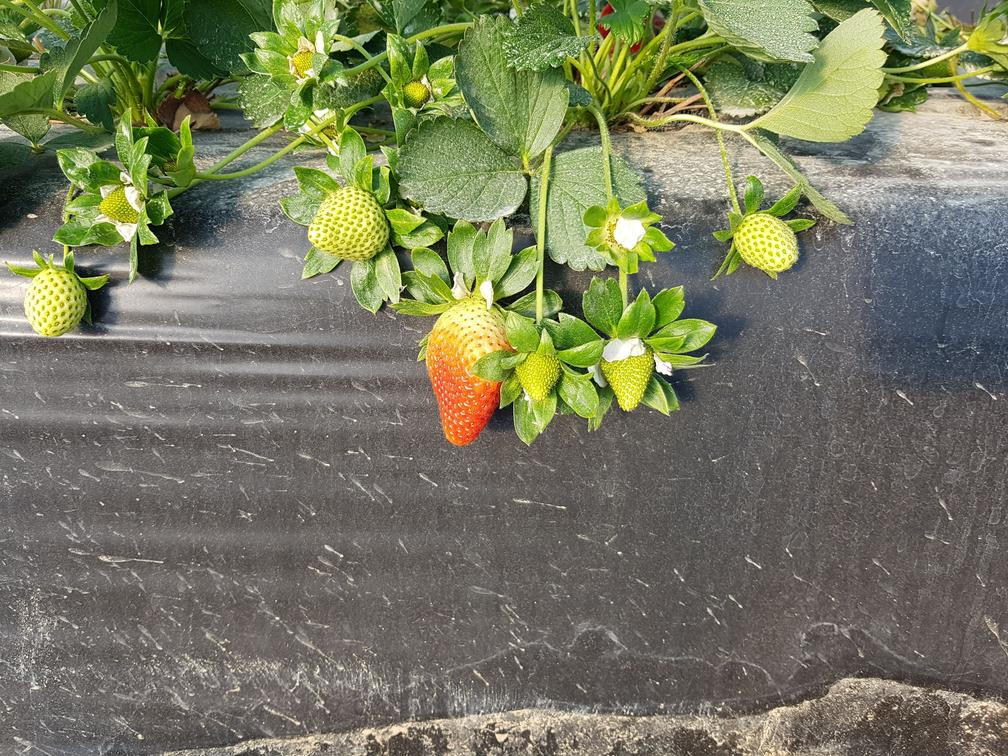Ripe: (422, 294, 512, 444)
Unripe: (302, 178, 398, 270), (24, 254, 91, 349), (605, 345, 665, 421), (736, 212, 803, 269), (509, 352, 574, 404)
